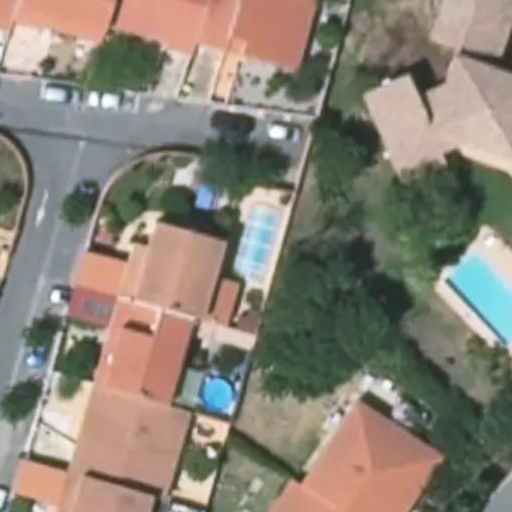pool: (444, 252, 512, 344), (236, 202, 282, 282), (199, 376, 235, 414)
